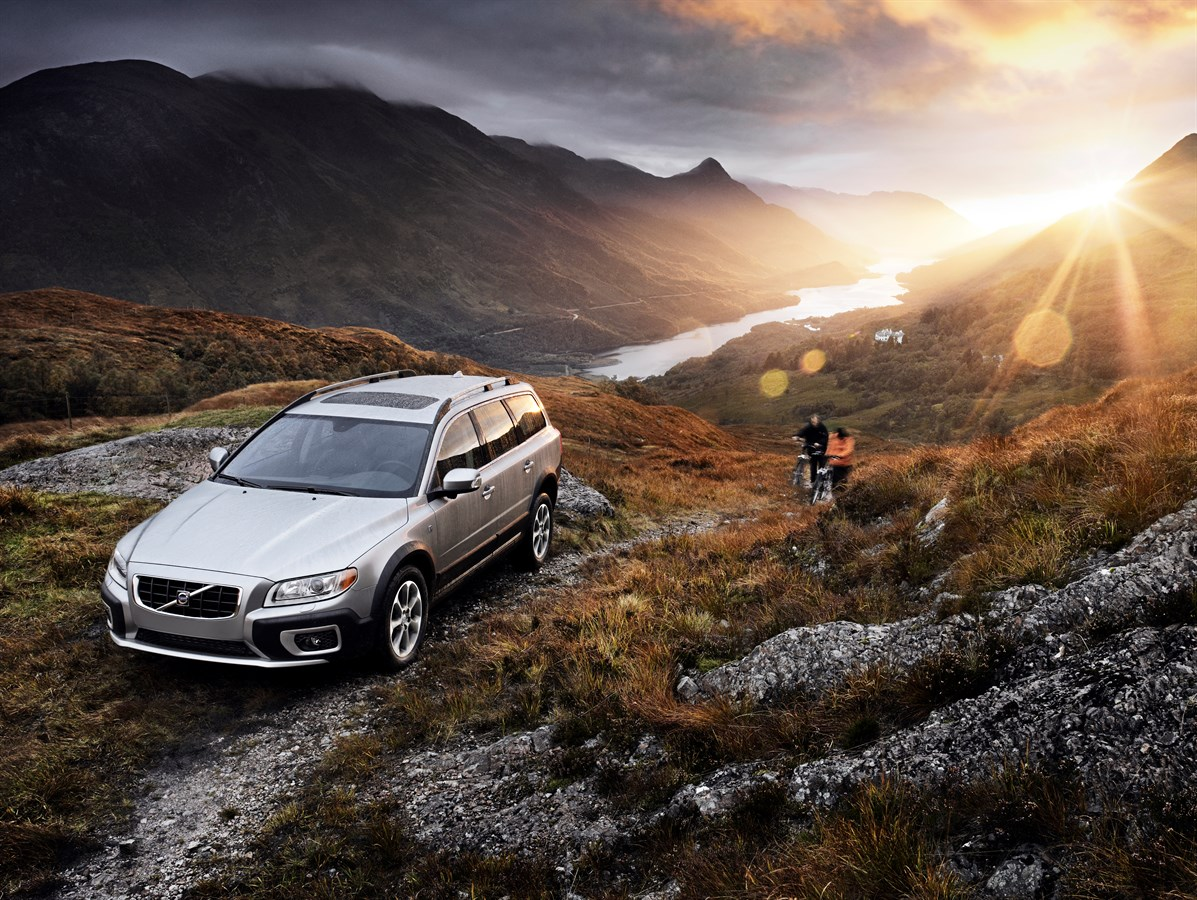other: (88, 360, 563, 670)
